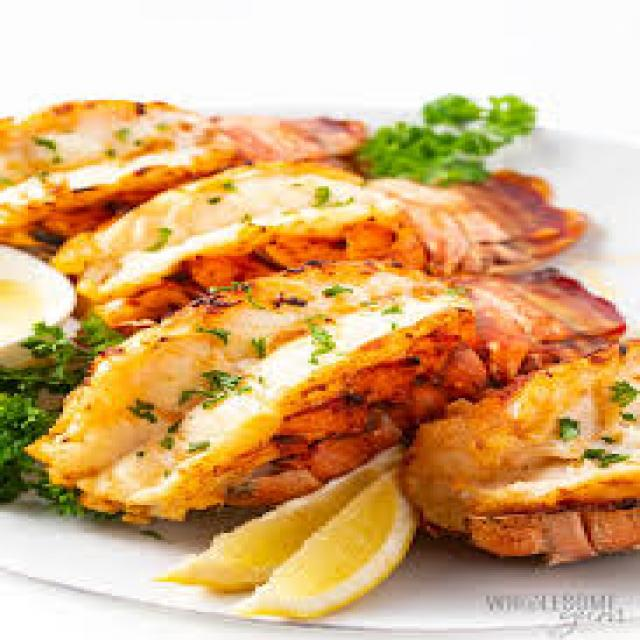Lemon: (261, 521, 397, 625)
Lobster Tail: (166, 269, 603, 420), (178, 167, 598, 263), (3, 94, 362, 164)
